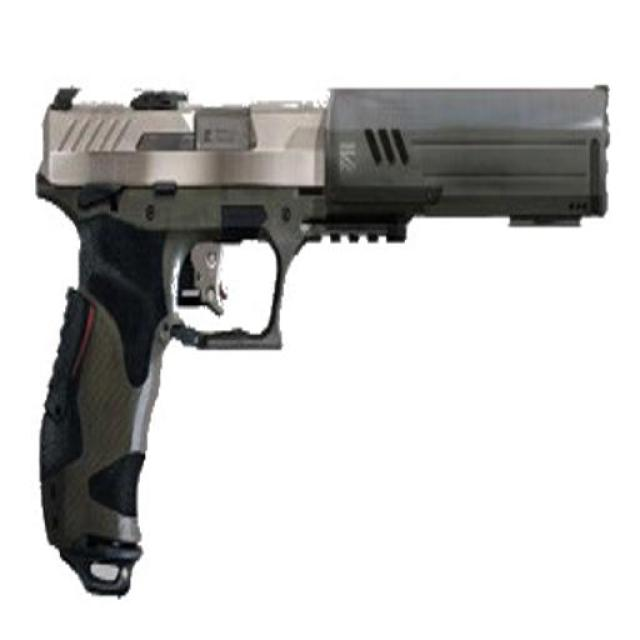pistol: (39, 88, 610, 589)
